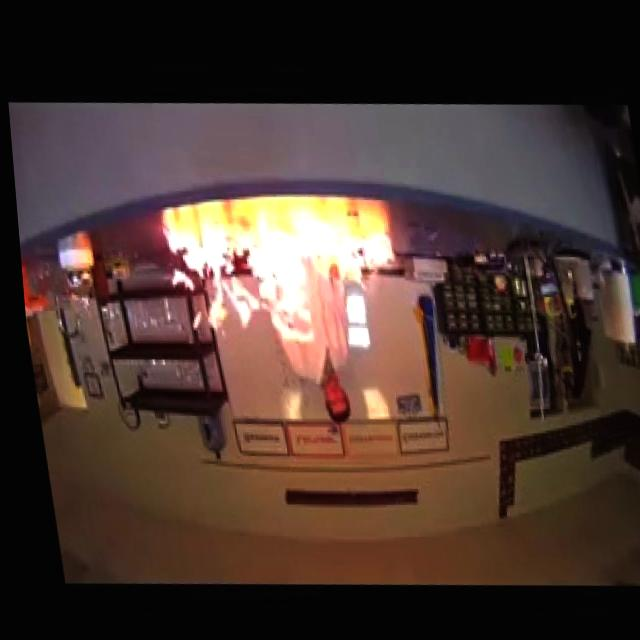Fire: (148, 195, 408, 356)
